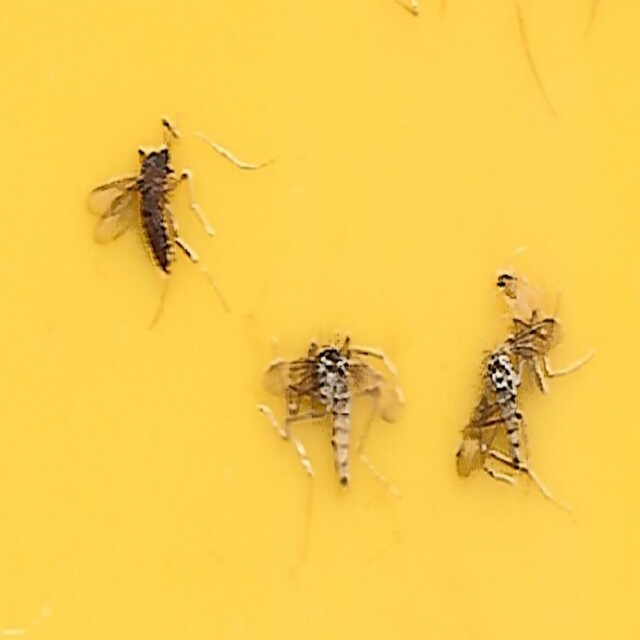Nematocera: (258, 344, 407, 498), (456, 313, 555, 496), (85, 142, 181, 279)
